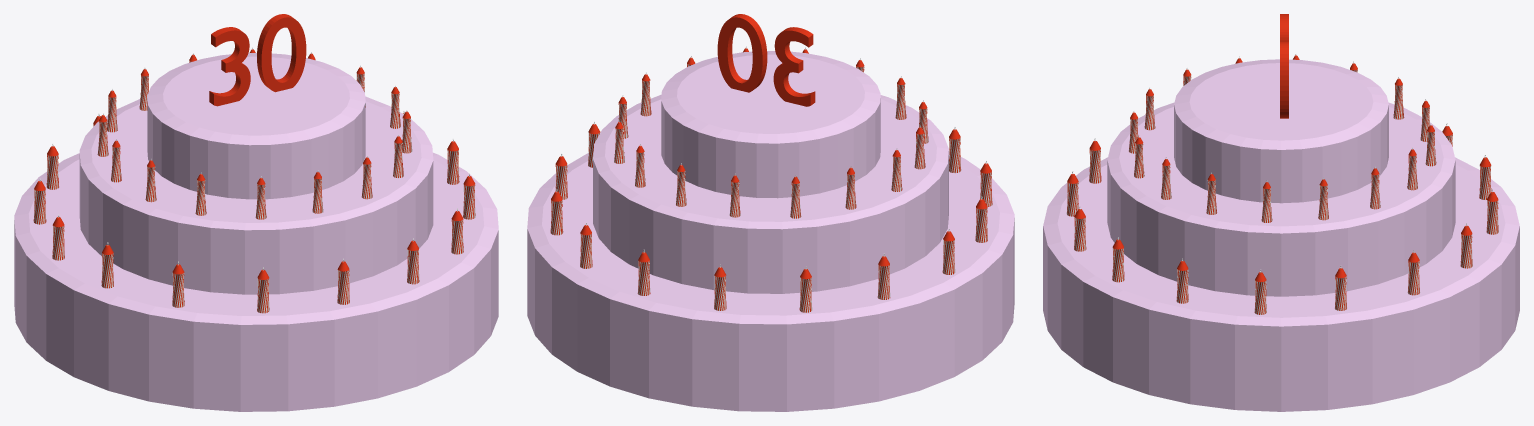
The model's file is Cake.glb.
3 renders of one model, left to right at view 1: azimuth 30°, elevation 25°; view 2: azimuth 150°, elevation 25°; view 3: azimuth 270°, elevation 25°, orthographic. The views are drawn at different scales.
Parts seen in each view (by area): view 1: Cylinder; view 2: Cylinder; view 3: Cylinder.
Part boxes in pixels (x1,y1,x2,y2): Cylinder: (14, 14, 498, 411); Cylinder: (527, 14, 1014, 411); Cylinder: (1043, 14, 1519, 411).
Bounding box in the file's own units: 2 × 1.3 × 2.
1 material, 1 textured.
